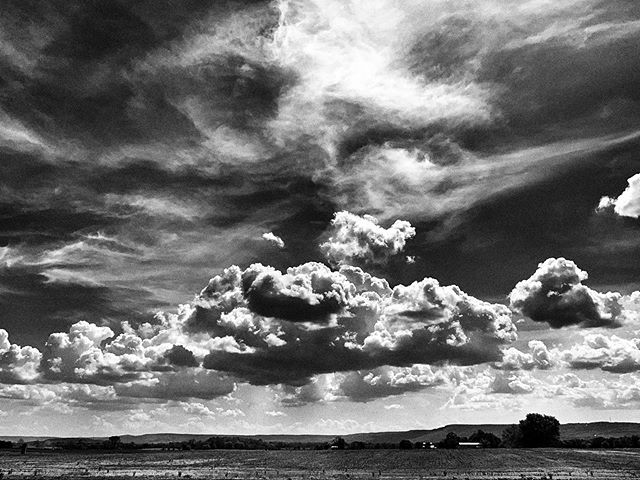sky: (1, 1, 640, 412)
tree: (513, 405, 567, 453)
